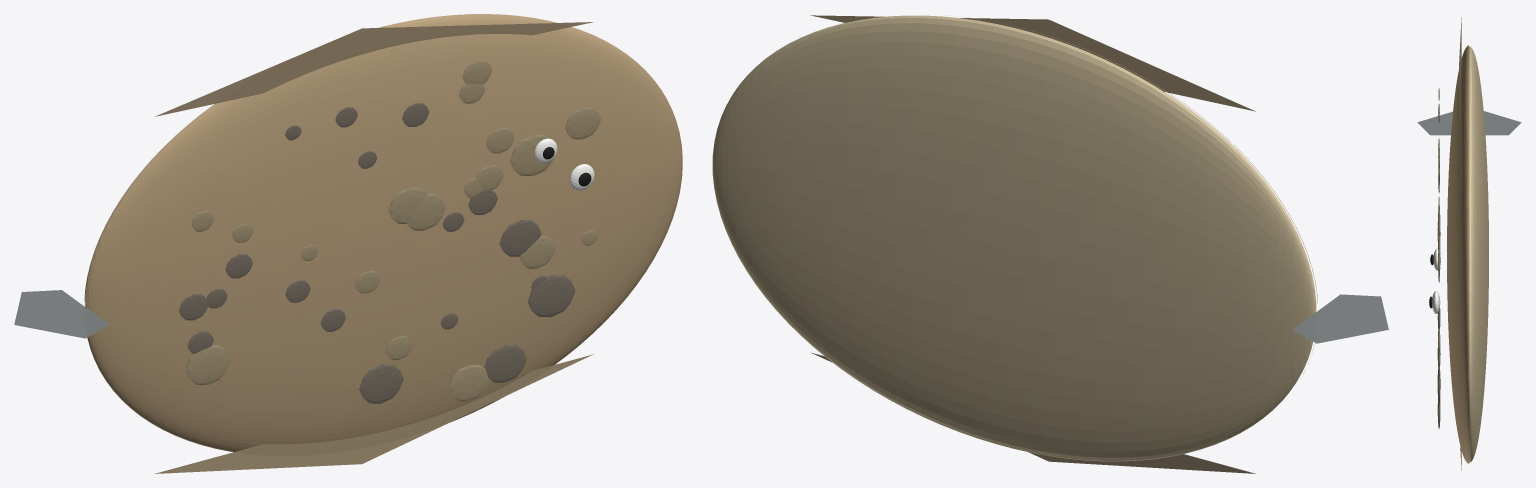
The model's file is summer_flounder_approx.glb.
The picture shows the model from 3 angles, left to right: view 1: azimuth 30°, elevation 25°; view 2: azimuth 150°, elevation 25°; view 3: azimuth 270°, elevation 25°; orthographic projection. The views are drawn at different scales.
Parts seen in each view (by area): view 1: mottled_brown_top, flounder_edge_fin, flounder_edge_fin_1, small_flat_tail, flounder_top_spot_25, flounder_top_spot_12, flounder_top_spot_7, flounder_top_spot_5, flounder_top_spot_2, flounder_top_spot_27, flounder_top_spot_10, flounder_top_spot_22 (+3 smaller); view 2: summer_flounder_flat_body, flounder_edge_fin_1, small_flat_tail, flounder_edge_fin; view 3: mottled_brown_top, summer_flounder_flat_body, small_flat_tail, flounder_edge_fin_1, flounder_eye_white_1.
Boxes of the visible parts, x1,y1,x2,y2 form: mottled_brown_top: (84,14,682,452); flounder_edge_fin: (155,354,593,473); flounder_edge_fin_1: (154,22,593,116); small_flat_tail: (14,290,109,338); flounder_top_spot_25: (527,275,575,317); flounder_top_spot_12: (185,345,230,384); flounder_top_spot_7: (359,364,403,403); flounder_top_spot_5: (484,345,526,382); flounder_top_spot_2: (448,365,489,401); flounder_top_spot_27: (499,220,541,256); flounder_top_spot_10: (510,134,553,175); flounder_top_spot_22: (388,187,427,223); summer_flounder_flat_body: (712,15,1316,461); flounder_edge_fin_1: (810,15,1255,111); small_flat_tail: (1292,294,1388,343); flounder_edge_fin: (811,352,1255,473); mottled_brown_top: (1447,45,1469,463); summer_flounder_flat_body: (1468,46,1488,462); small_flat_tail: (1417,111,1521,135); flounder_edge_fin_1: (1459,17,1461,192); flounder_eye_white_1: (1432,291,1440,313).
Bounding box in the file's own units: 2.43 × 1.51 × 0.4.
